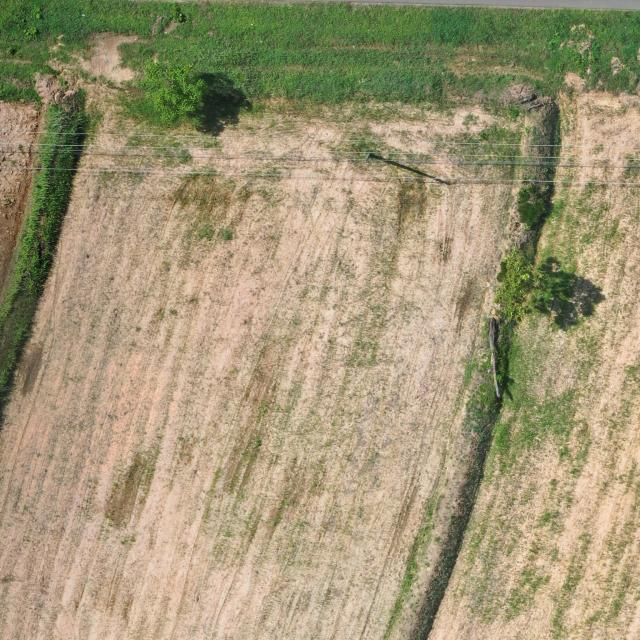Tree: (492, 243, 556, 323), (144, 56, 206, 124)
